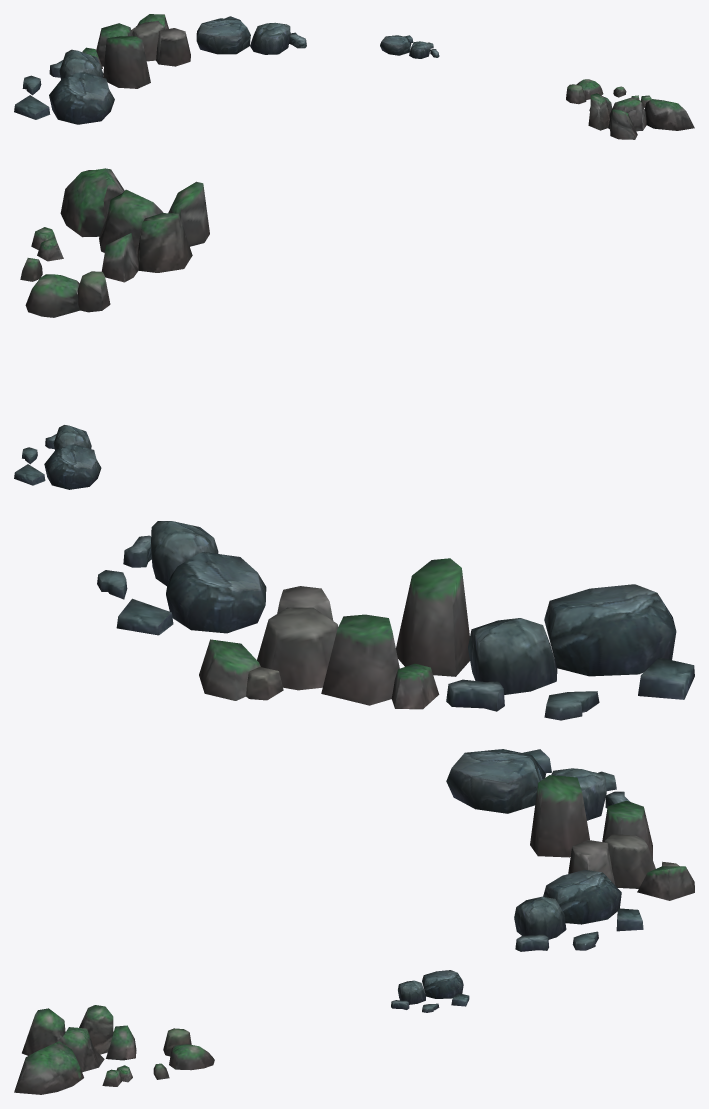
The model's file is Area_07_31.fbx.
The picture shows the model from 3 angles, top to bottom: view 1: azimuth 30°, elevation 25°; view 2: azimuth 150°, elevation 25°; view 3: azimuth 270°, elevation 25°; orthographic projection. The views are drawn at different scales.
Parts seen in each view (by area): view 1: Area_07_31; view 2: Area_07_31; view 3: Area_07_31.
Boxes of the visible parts, left/top/right/bottom form: Area_07_31: left=14, top=14, right=694, bottom=139; Area_07_31: left=14, top=168, right=694, bottom=720; Area_07_31: left=14, top=749, right=694, bottom=1094.
Size of the model in its own units: 4470 by 394 by 3803.
